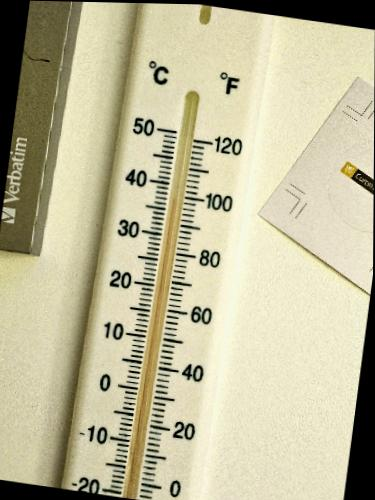thermo: (58, 0, 279, 500)
